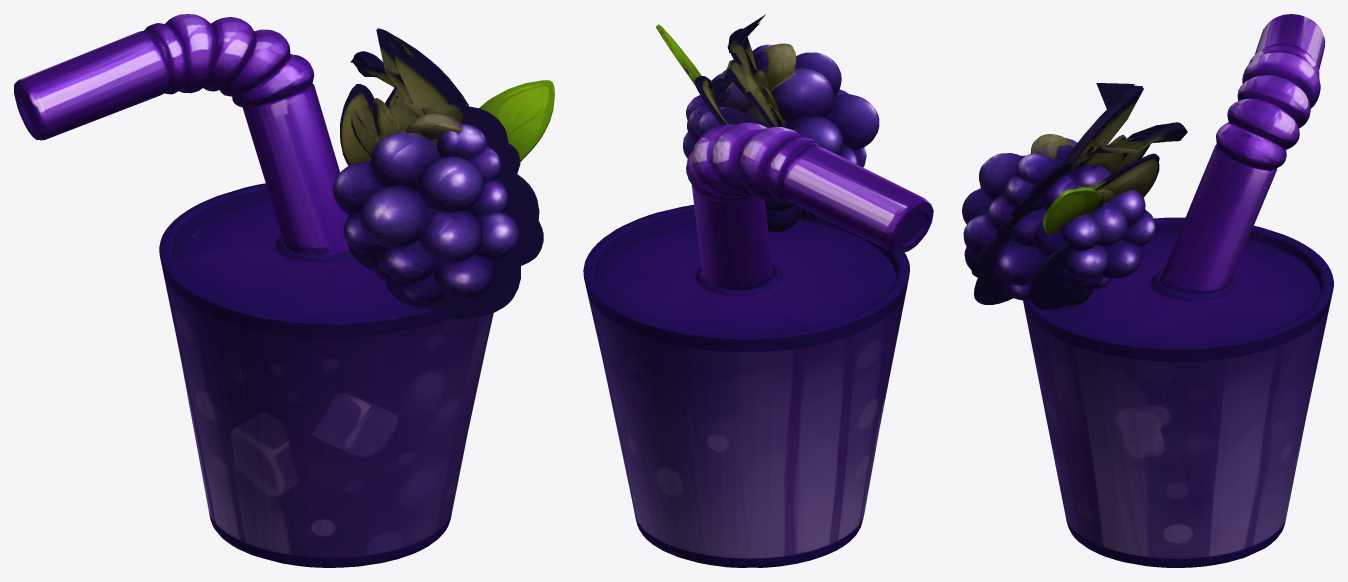
Rendered from Web_Smoothie_Blackberry.obj.
3 renders of one model, left to right at view 1: azimuth 30°, elevation 25°; view 2: azimuth 150°, elevation 25°; view 3: azimuth 270°, elevation 25°, orthographic. The views are drawn at different scales.
Visible parts, largest first — view 1: Web_Smoothie_Blackberry; view 2: Web_Smoothie_Blackberry; view 3: Web_Smoothie_Blackberry.
Boxes of the visible parts, x1,y1,x2,y2 form: Web_Smoothie_Blackberry: (14,14,554,567); Web_Smoothie_Blackberry: (583,14,933,567); Web_Smoothie_Blackberry: (962,14,1333,567).
Size of the model in its own units: 0.8854 by 1.05 by 0.7769.
Materials: 1 (1 with a texture image).
